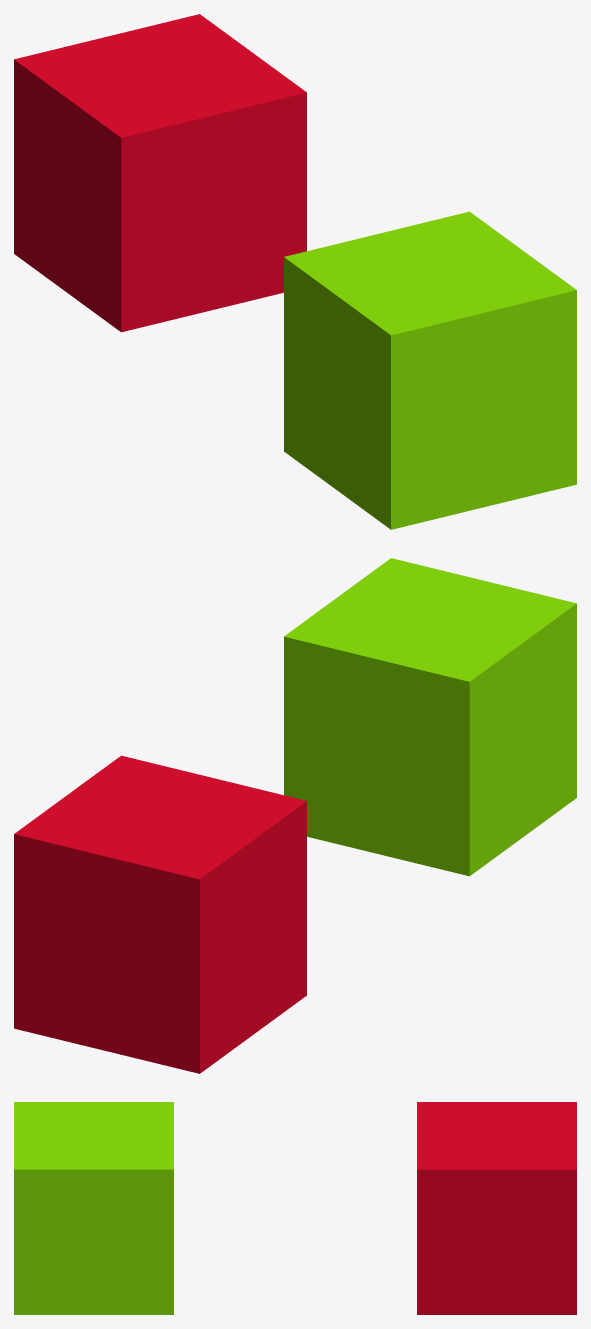
3 views of the same model, one above another, from view 1: azimuth 30°, elevation 25°; view 2: azimuth 150°, elevation 25°; view 3: azimuth 270°, elevation 25° (orthographic). The views are drawn at different scales.
Parts seen in each view (by area): view 1: Cube.001, Cube; view 2: Cube, Cube.001; view 3: Cube, Cube.001.
Part boxes in pixels (left/top/right/bottom): Cube.001: left=284, top=211, right=576, bottom=529; Cube: left=14, top=14, right=306, bottom=332; Cube: left=14, top=755, right=306, bottom=1073; Cube.001: left=284, top=558, right=576, bottom=876; Cube: left=417, top=1102, right=576, bottom=1314; Cube.001: left=14, top=1102, right=173, bottom=1314.
Size of the model in its own units: 200 by 200 by 703.
